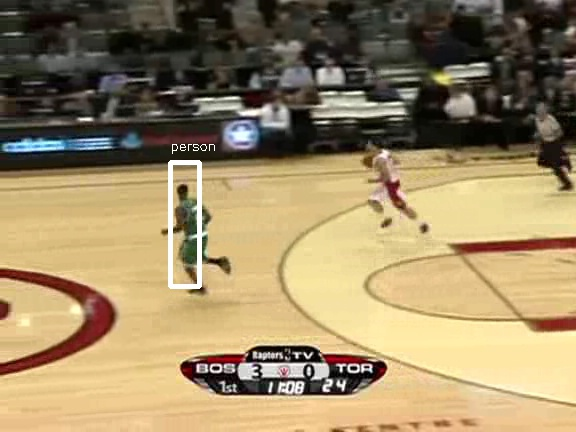person: (180, 192, 214, 273), (179, 192, 213, 273), (181, 192, 215, 273), (180, 191, 214, 272), (180, 193, 214, 274)
target_negative: (232, 56, 522, 255), (5, 144, 389, 267), (477, 25, 564, 193), (376, 168, 401, 418), (364, 25, 384, 334), (365, 384, 526, 421)
